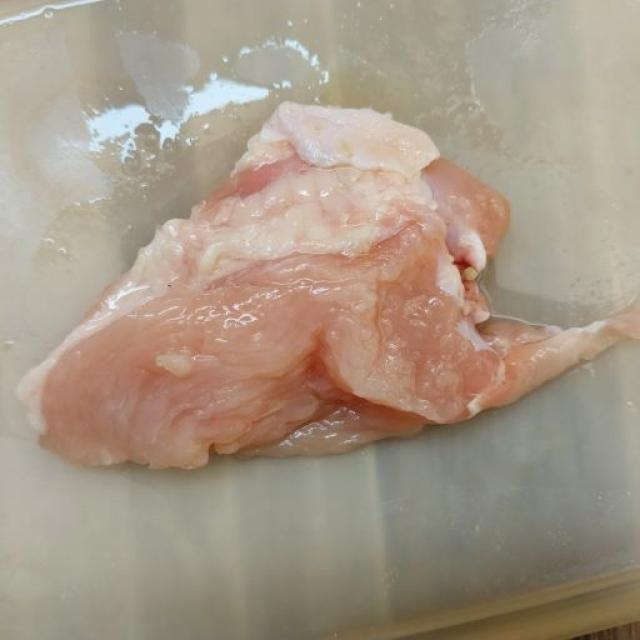chicken: (16, 99, 638, 472)
